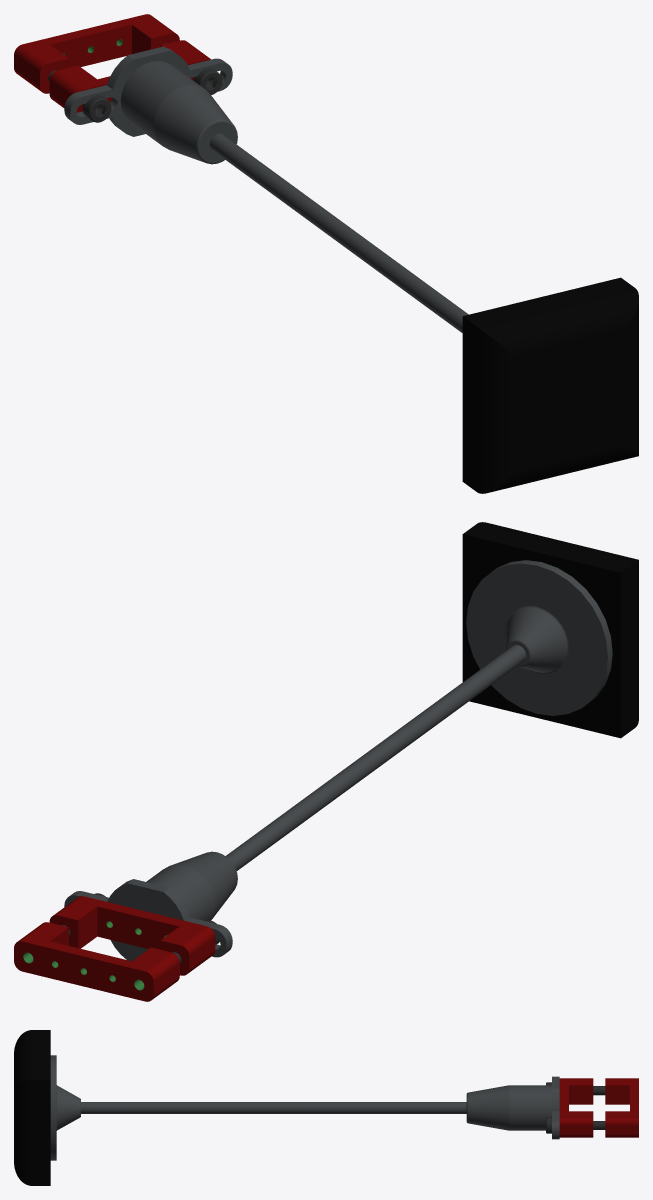
File: gps_ublox_m8n.dae
The picture shows the model from 3 angles, top to bottom: view 1: azimuth 30°, elevation 25°; view 2: azimuth 150°, elevation 25°; view 3: azimuth 270°, elevation 25°; orthographic projection. The views are drawn at different scales.
Parts seen in each view (by area): view 1: Body_1 (×2), _3DGeom_92, _3DGeom_70; view 2: Body_1 (×2), _3DGeom_92, _3DGeom_70; view 3: Body_1 (×2), _3DGeom_70, _3DGeom_92.
Boxes of the visible parts, left/top/right/bottom form: Body_1 (×2): left=64, top=46, right=638, bottom=493; _3DGeom_92: left=14, top=14, right=179, bottom=93; _3DGeom_70: left=49, top=40, right=210, bottom=112; Body_1 (×2): left=64, top=522, right=638, bottom=960; _3DGeom_92: left=14, top=922, right=179, bottom=1001; _3DGeom_70: left=49, top=896, right=215, bottom=975; Body_1 (×2): left=14, top=1030, right=559, bottom=1185; _3DGeom_70: left=559, top=1078, right=593, bottom=1137; _3DGeom_92: left=605, top=1078, right=638, bottom=1137.
Size of the model in its own units: 0.0395 by 0.205 by 0.0385.
